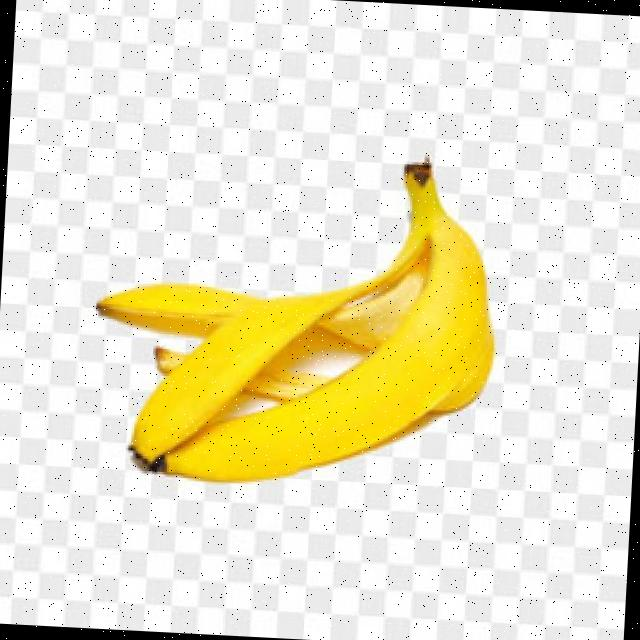banana-peel: (87, 138, 504, 496)
